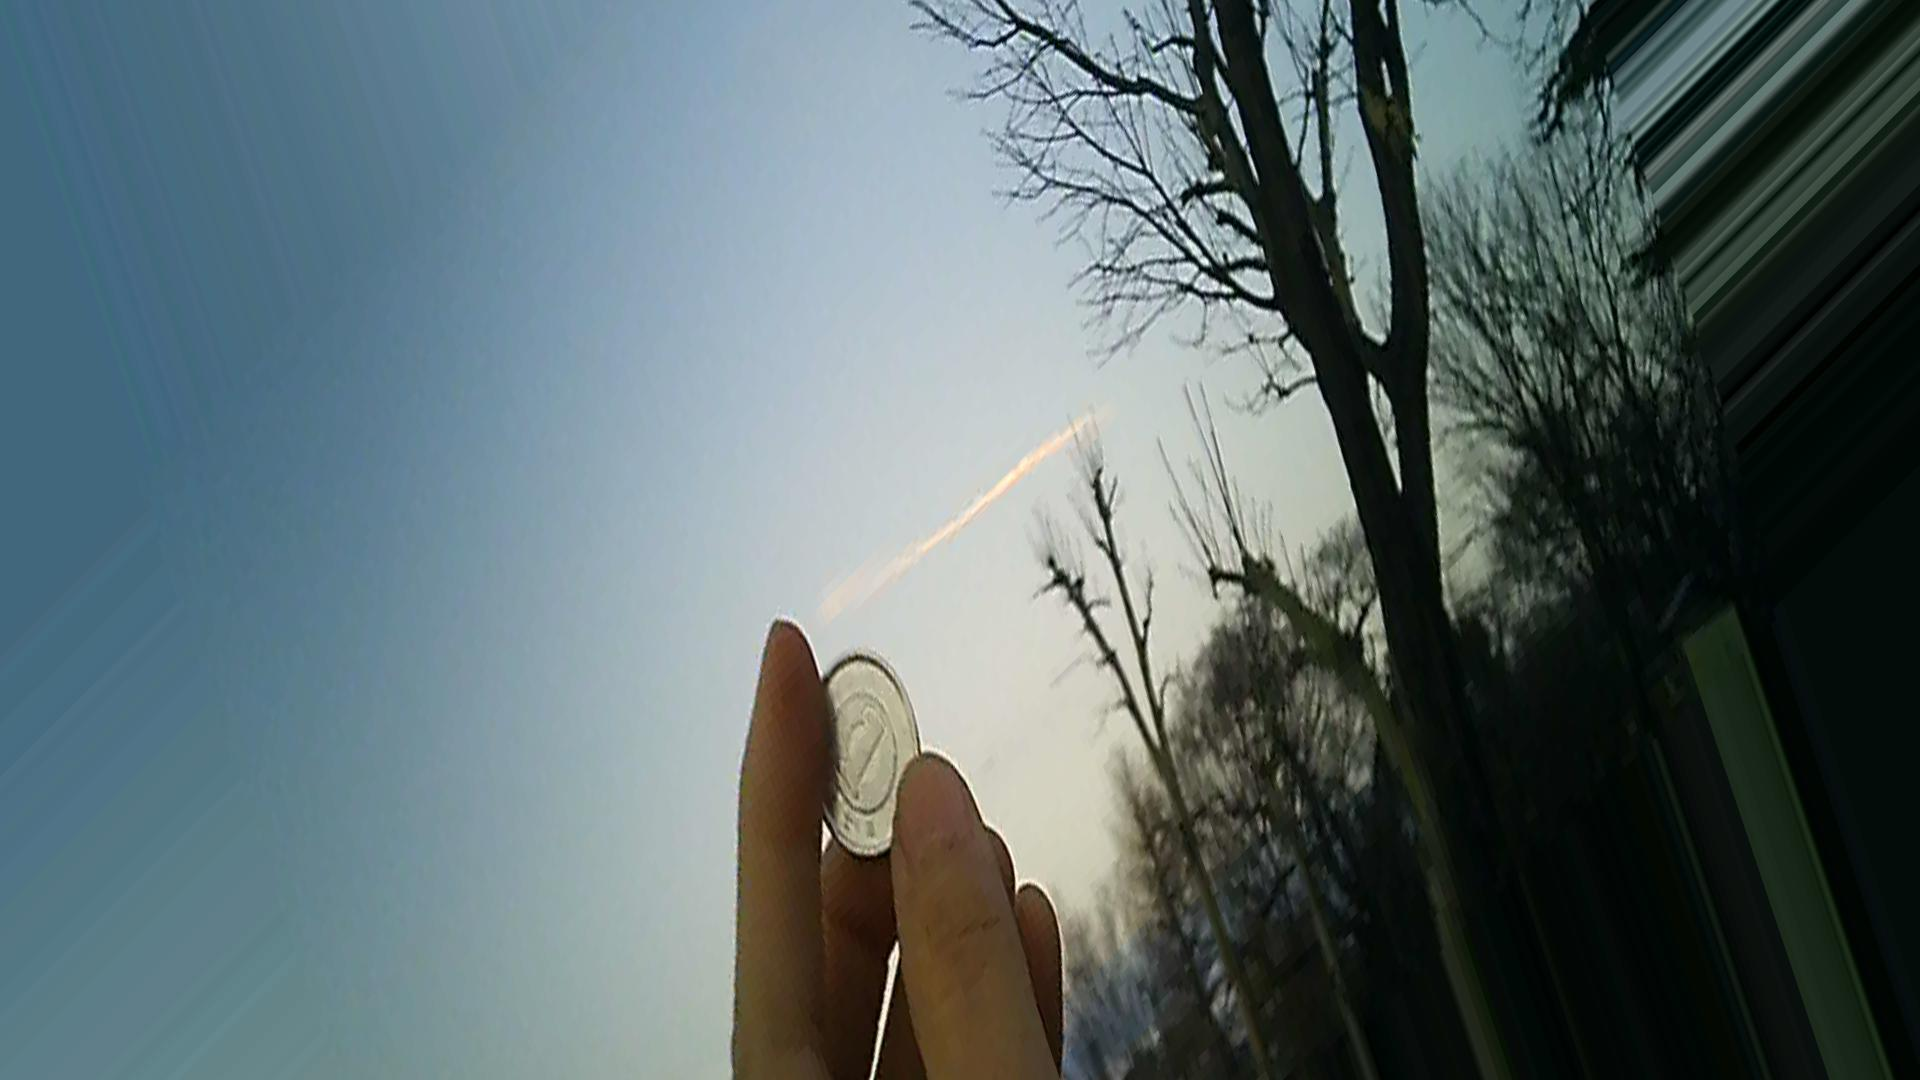1 Yen: (795, 647, 965, 856)
